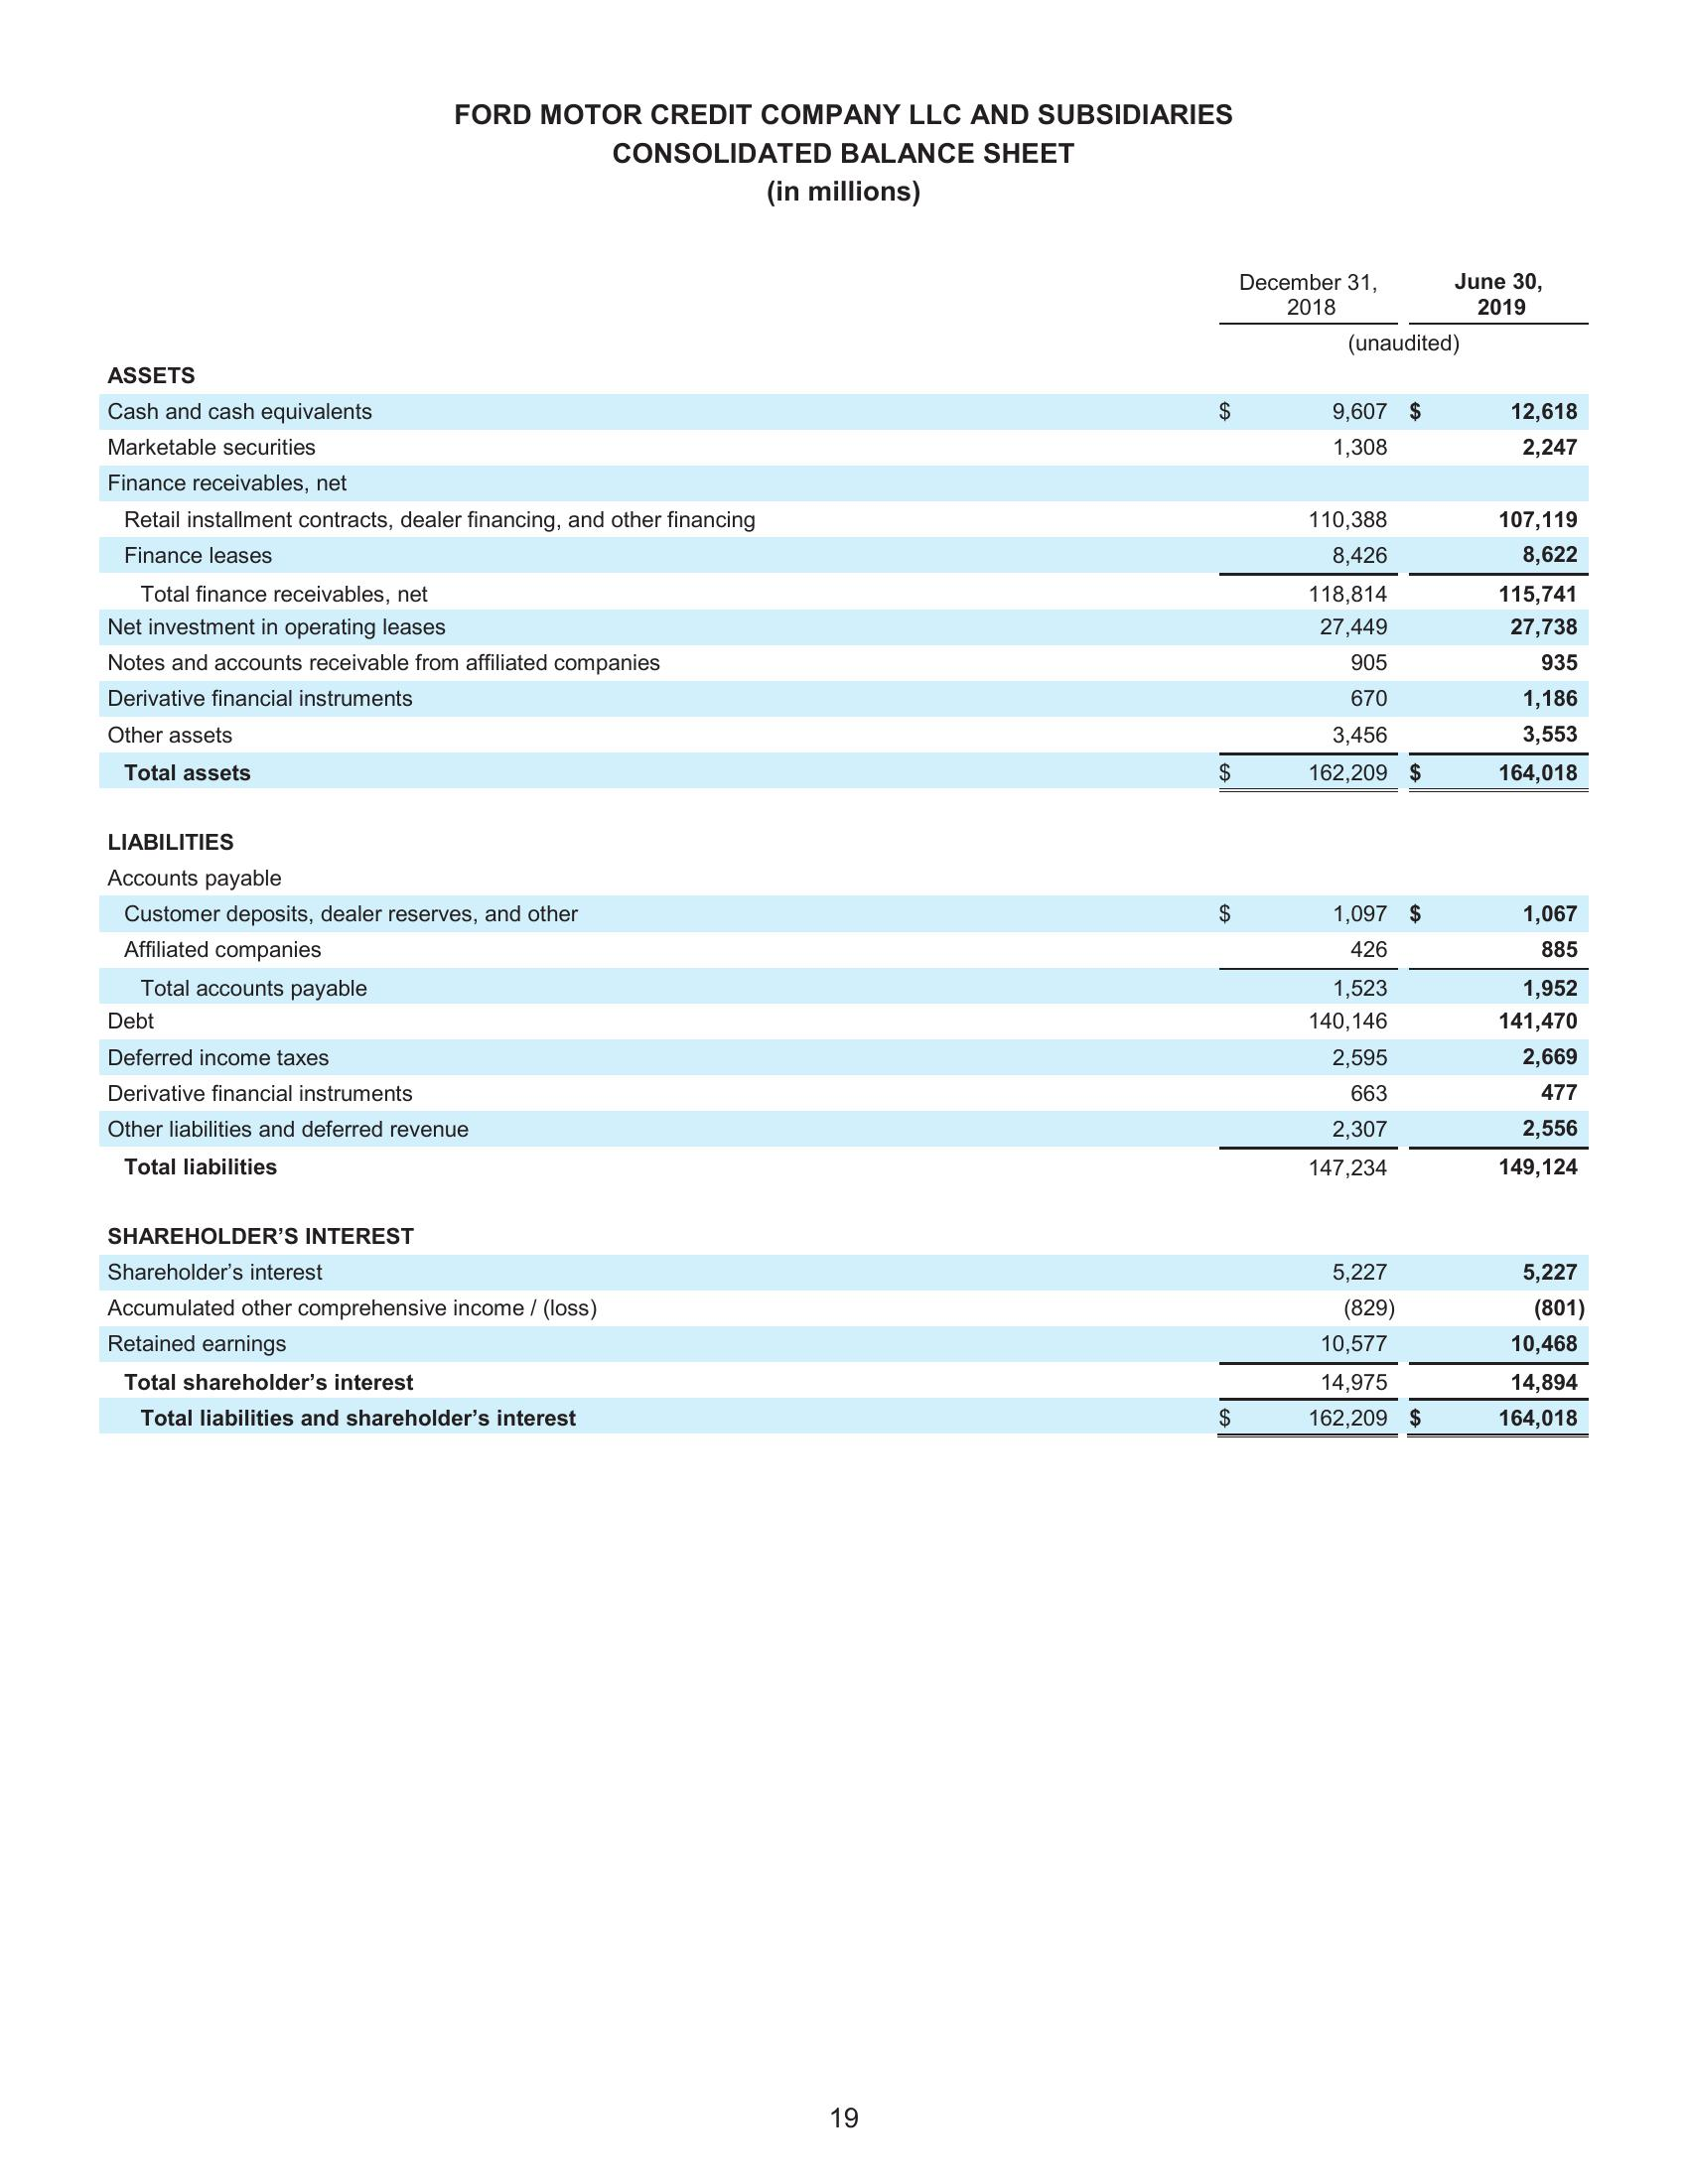table: (89, 261, 1592, 1443)
